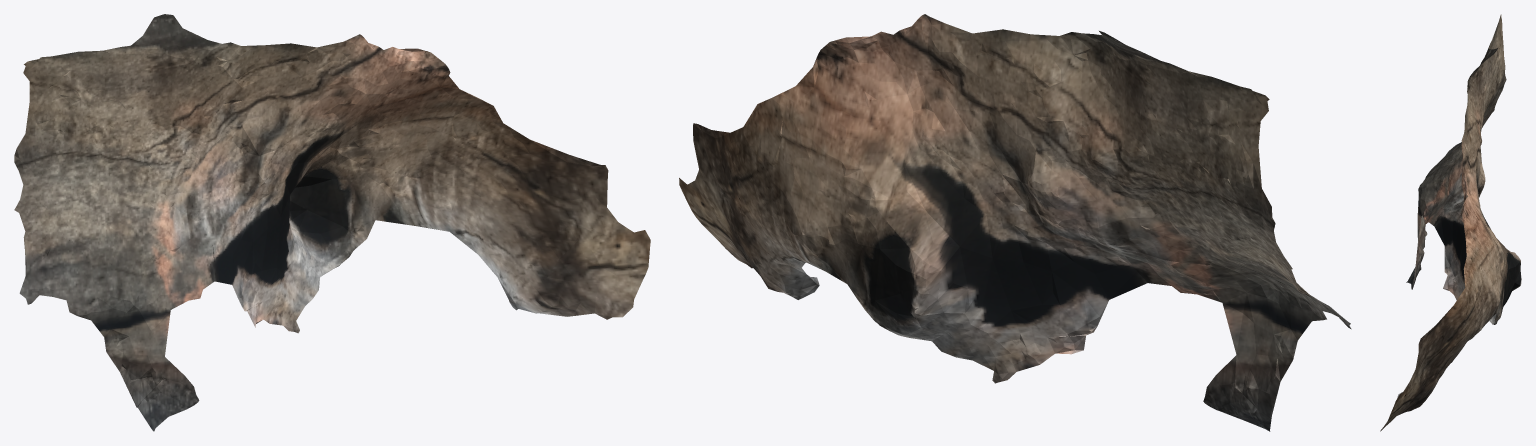
Rendered from texturedMesh.obj.
The picture shows the model from 3 angles, left to right: view 1: azimuth 30°, elevation 25°; view 2: azimuth 150°, elevation 25°; view 3: azimuth 270°, elevation 25°; orthographic projection. The views are drawn at different scales.
Parts seen in each view (by area): view 1: TexturedMesh; view 2: TexturedMesh; view 3: TexturedMesh.
Part boxes in pixels (box(x1,y1,x2,y2)): TexturedMesh: box(14, 14, 650, 431); TexturedMesh: box(679, 14, 1351, 431); TexturedMesh: box(1380, 14, 1521, 431).
Size of the model in its own units: 2.22 by 1.27 by 0.6292.
1 material, 1 textured.
